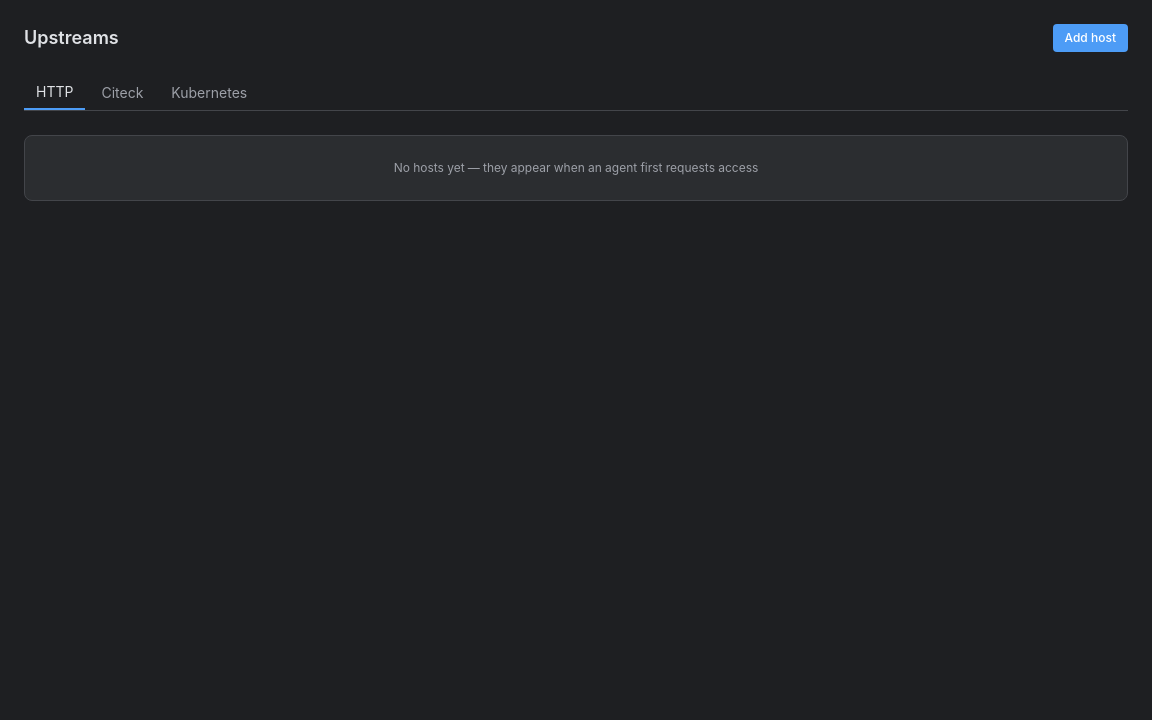
Scenario: <Hosts> (Upstreams.tsx) › auto-fills OIDC endpoints via Discover
This screenshot has width=1152, height=720.
Click the button "Add host": click(1090, 38) [1052,24,1128,52]
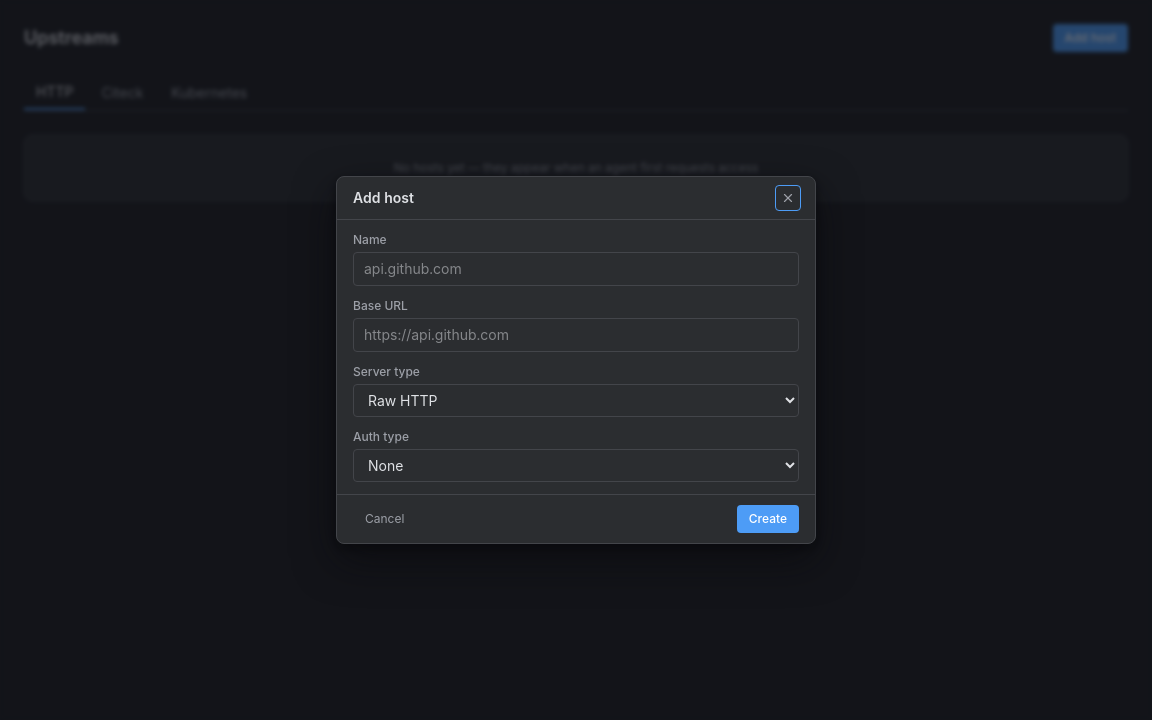
// Switch auth type to OIDC authorization-code.
Select "OIDC authorization-code (browser login)" in the dropdown labelled "Auth type": (576, 466) [353,449,799,482]
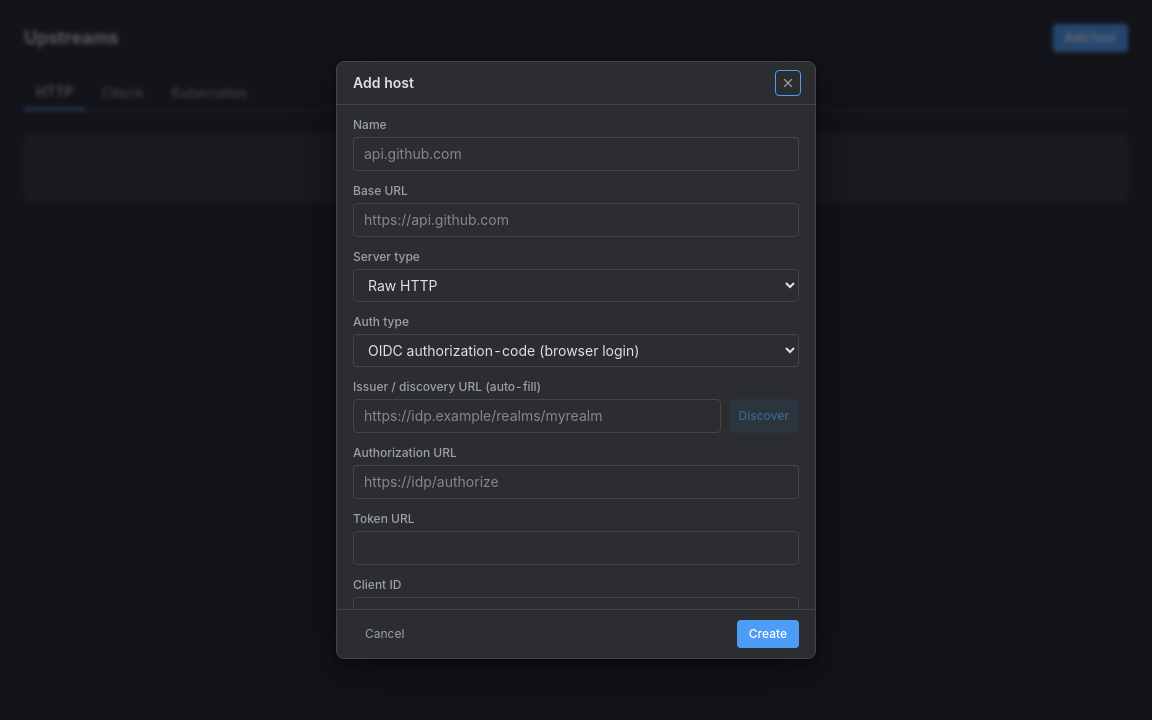
// Enter the issuer URL and click Discover.
In the field named "Issuer or discovery URL": (537, 416) [353,399,720,433], type "https://idp/realms/x"
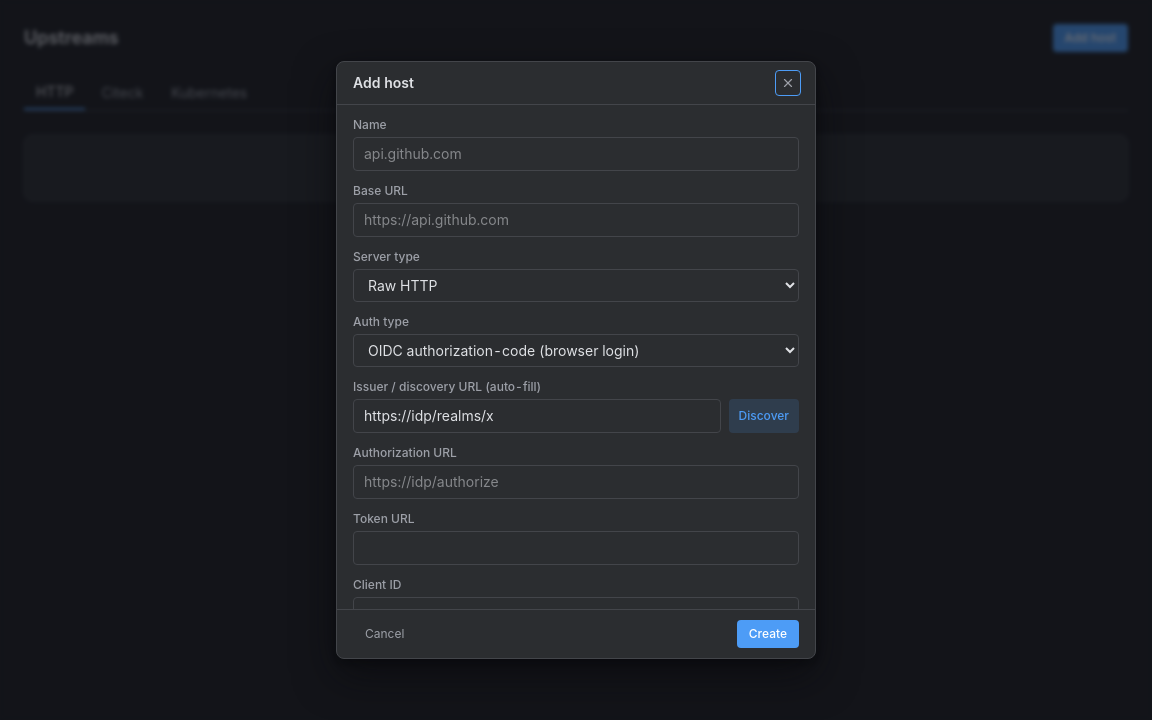
Click the button "Discover": click(764, 416) [728,399,799,433]
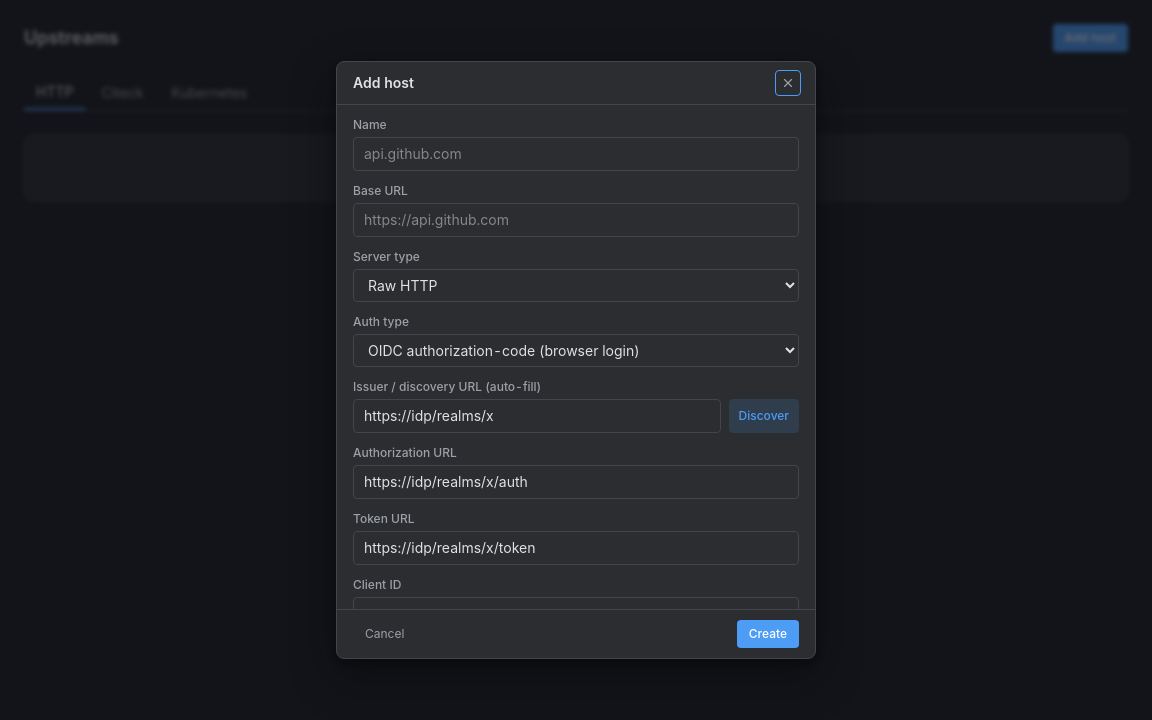
expect the field labelled "Authorization URL" holds "https://idp/realms/x/auth": met, box [353,465,799,499]
expect the field named "Token URL (auth-code)" holds "https://idp/realms/x/token": met, box [353,531,799,565]
